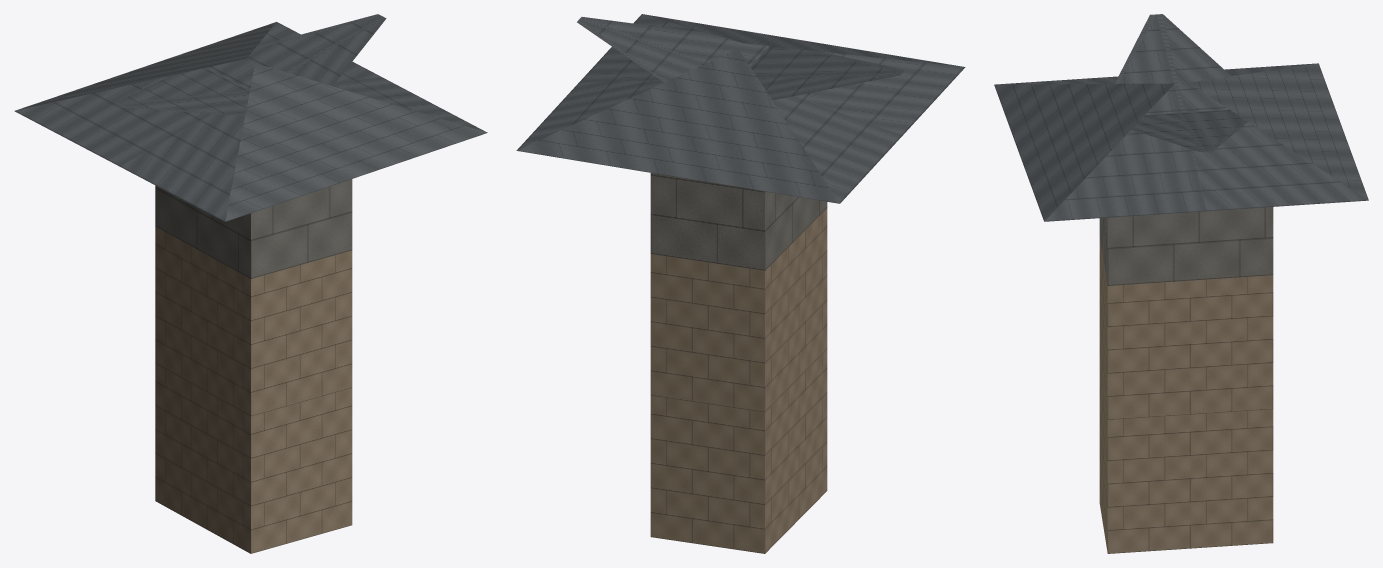
File: bld_c9_27_405.gltf
3 renders of one model, left to right at view 1: azimuth 30°, elevation 25°; view 2: azimuth 150°, elevation 25°; view 3: azimuth 270°, elevation 25°, orthographic. The views are drawn at different scales.
Parts seen in each view (by area): view 1: bld_c9_27_405; view 2: bld_c9_27_405; view 3: bld_c9_27_405.
Boxes of the visible parts, bbox=[...] form: bld_c9_27_405: bbox=[14, 14, 487, 553]; bld_c9_27_405: bbox=[516, 14, 965, 553]; bld_c9_27_405: bbox=[994, 14, 1368, 553].
Bounding box in the file's own units: 5.71 × 7.4 × 5.71.
3 materials, 3 textured.
